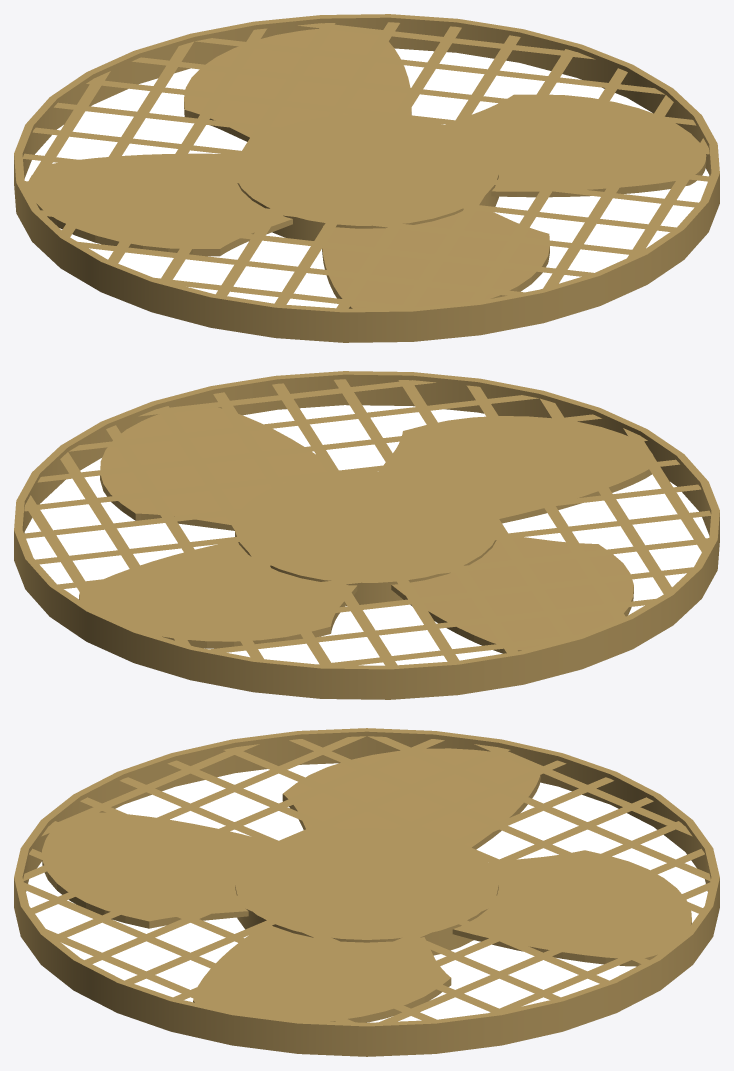
The model's file is ventel.fbx.
3 renders of one model, top to bottom at view 1: azimuth 30°, elevation 25°; view 2: azimuth 150°, elevation 25°; view 3: azimuth 270°, elevation 25°, orthographic.
Visible parts, largest first — view 1: Plane.002, Plane, Plane.003; view 2: Plane.002, Plane, Plane.003; view 3: Plane.002, Plane, Plane.003.
Boxes of the visible parts, left/top/right/bottom form: Plane.002: left=14, top=14, right=719, bottom=342; Plane: left=23, top=22, right=709, bottom=308; Plane.003: left=30, top=29, right=706, bottom=308; Plane.002: left=14, top=371, right=719, bottom=699; Plane: left=24, top=379, right=710, bottom=665; Plane.003: left=79, top=407, right=653, bottom=653; Plane.002: left=14, top=728, right=719, bottom=1056; Plane: left=23, top=736, right=710, bottom=1022; Plane.003: left=42, top=748, right=691, bottom=1022.
Size of the model in its own units: 200 by 9.49 by 200.
